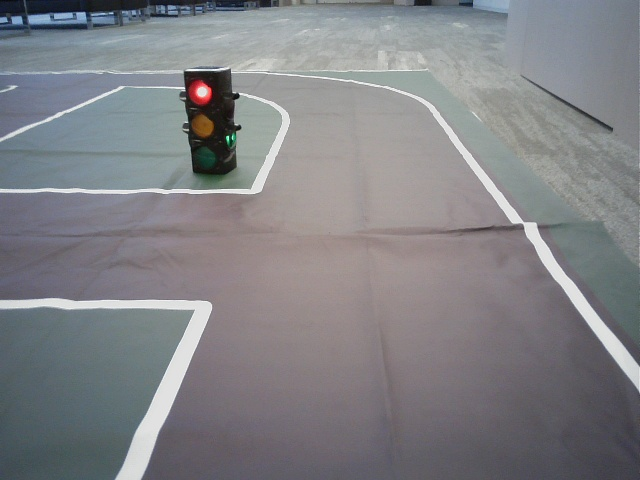red: (185, 71, 218, 171)
